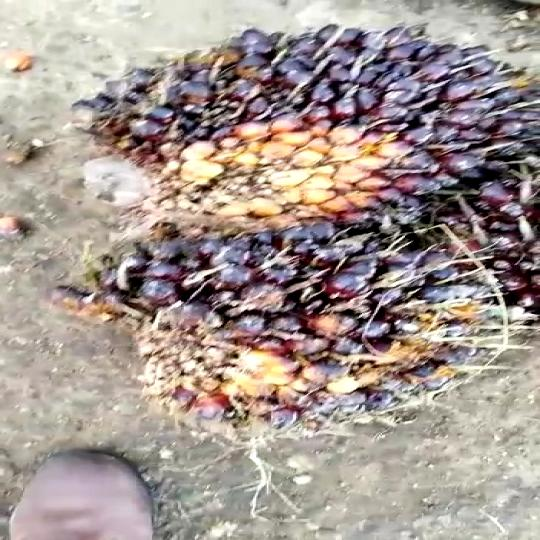kurang masak: (68, 215, 517, 439), (59, 21, 522, 213)
